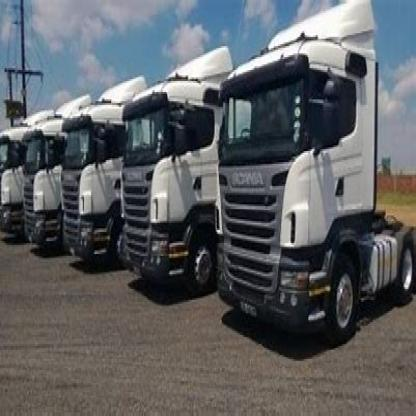dump_truck: (220, 7, 415, 356), (119, 15, 226, 344), (55, 65, 129, 287), (20, 89, 63, 270)
